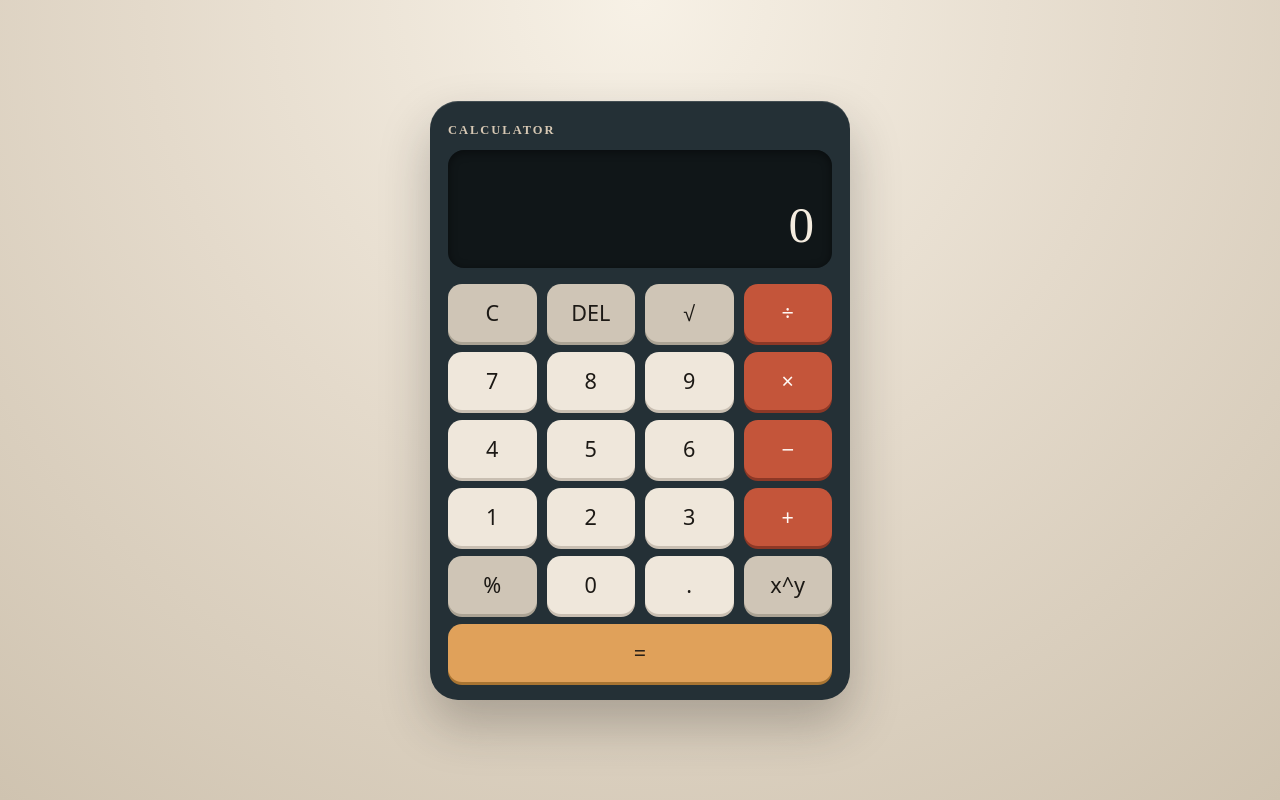
Test: shows an API error for division by zero and can be cleared
Click the button "8". click: (591, 380)
box: x1=546 y1=352 x2=635 y2=410
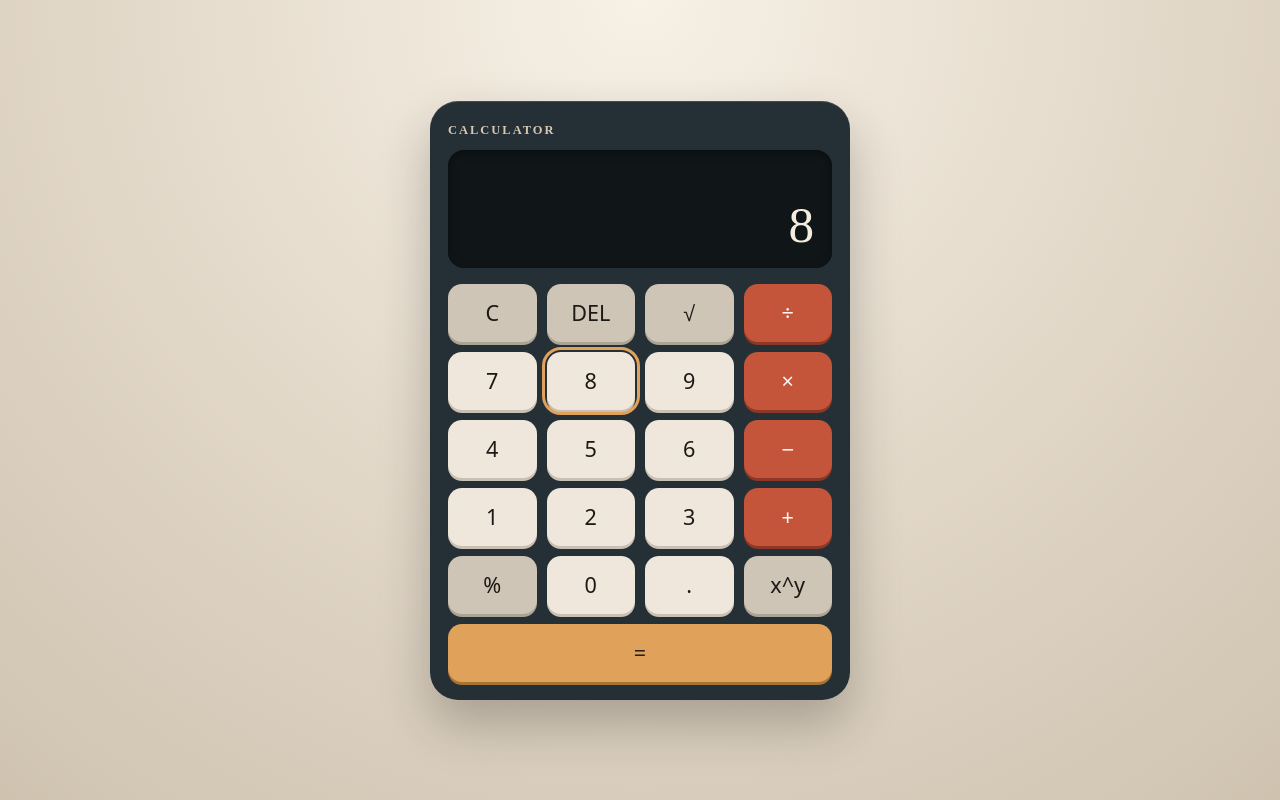
Click the button named "Divide". click: (788, 312)
box: x1=744 y1=284 x2=832 y2=342
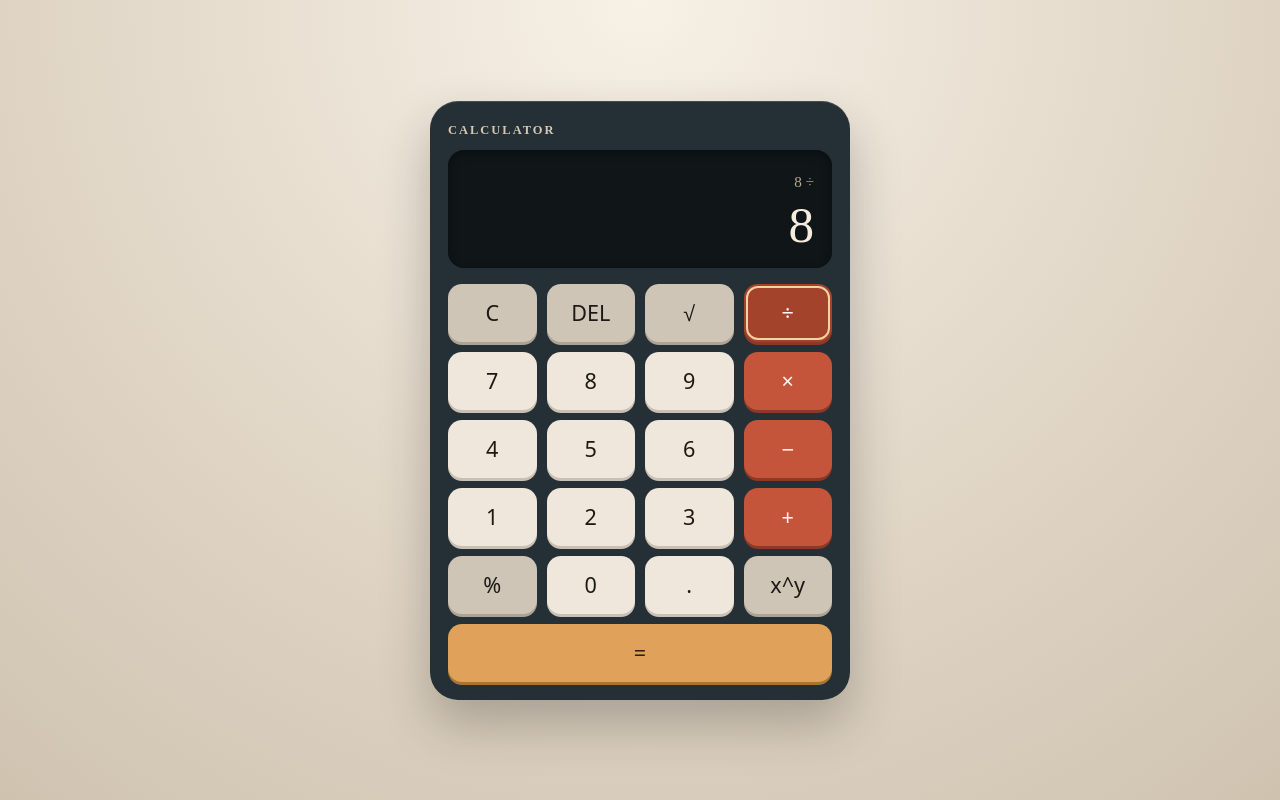
Click the button "0". click: (591, 584)
box: x1=546 y1=556 x2=635 y2=614
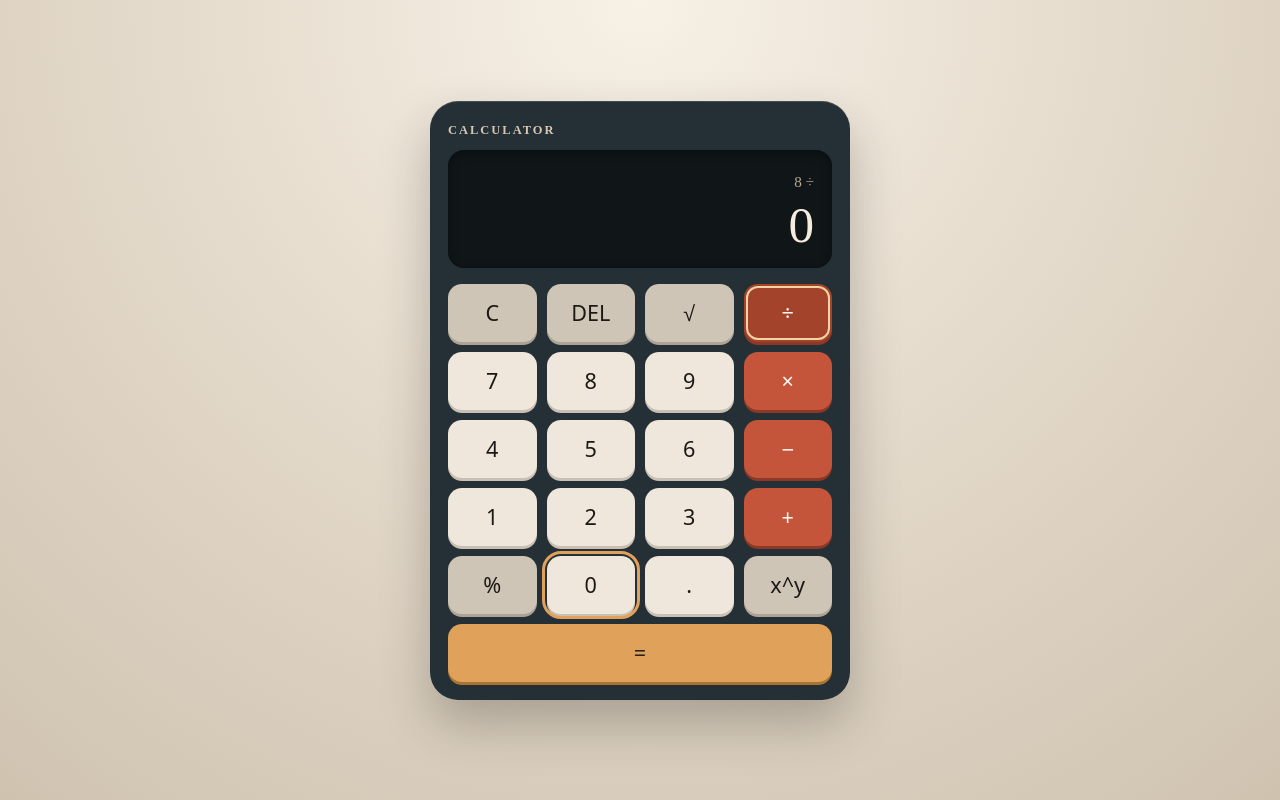
Click the button named "Equals". click: (640, 652)
box: x1=448 y1=624 x2=832 y2=682
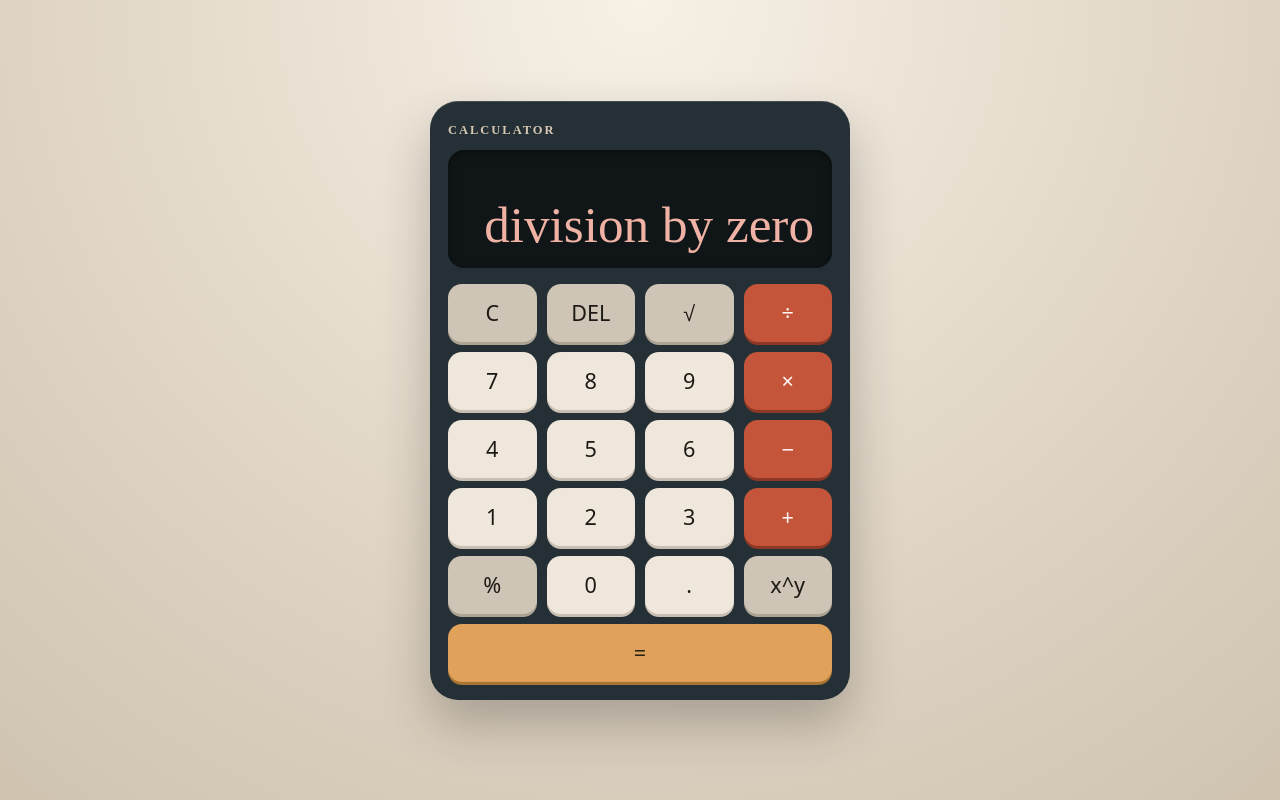
Result: the message reads "division by zero" at x1=484 y1=196 x2=814 y2=253
Click the button named "Clear". click: (492, 312)
box: x1=448 y1=284 x2=536 y2=342
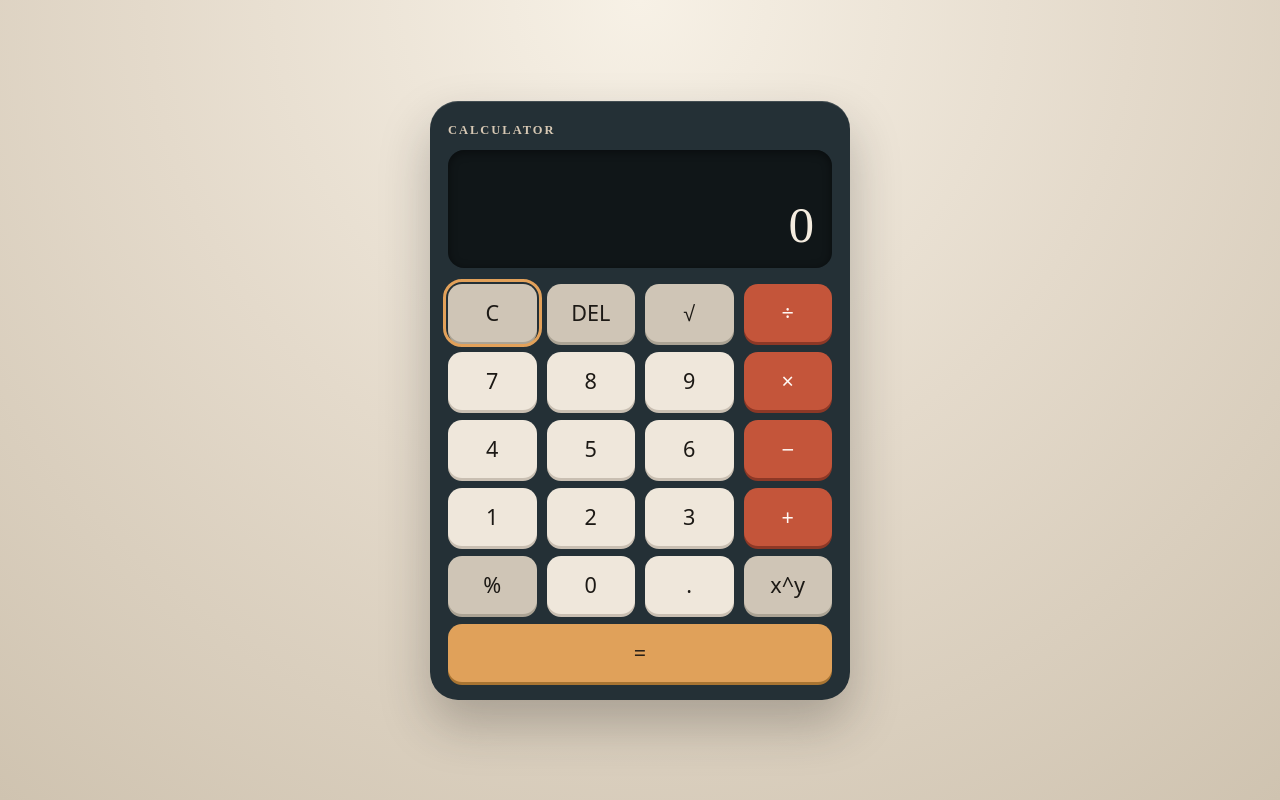
Result: the text named "Result" reads "0" at x1=788 y1=196 x2=814 y2=253
